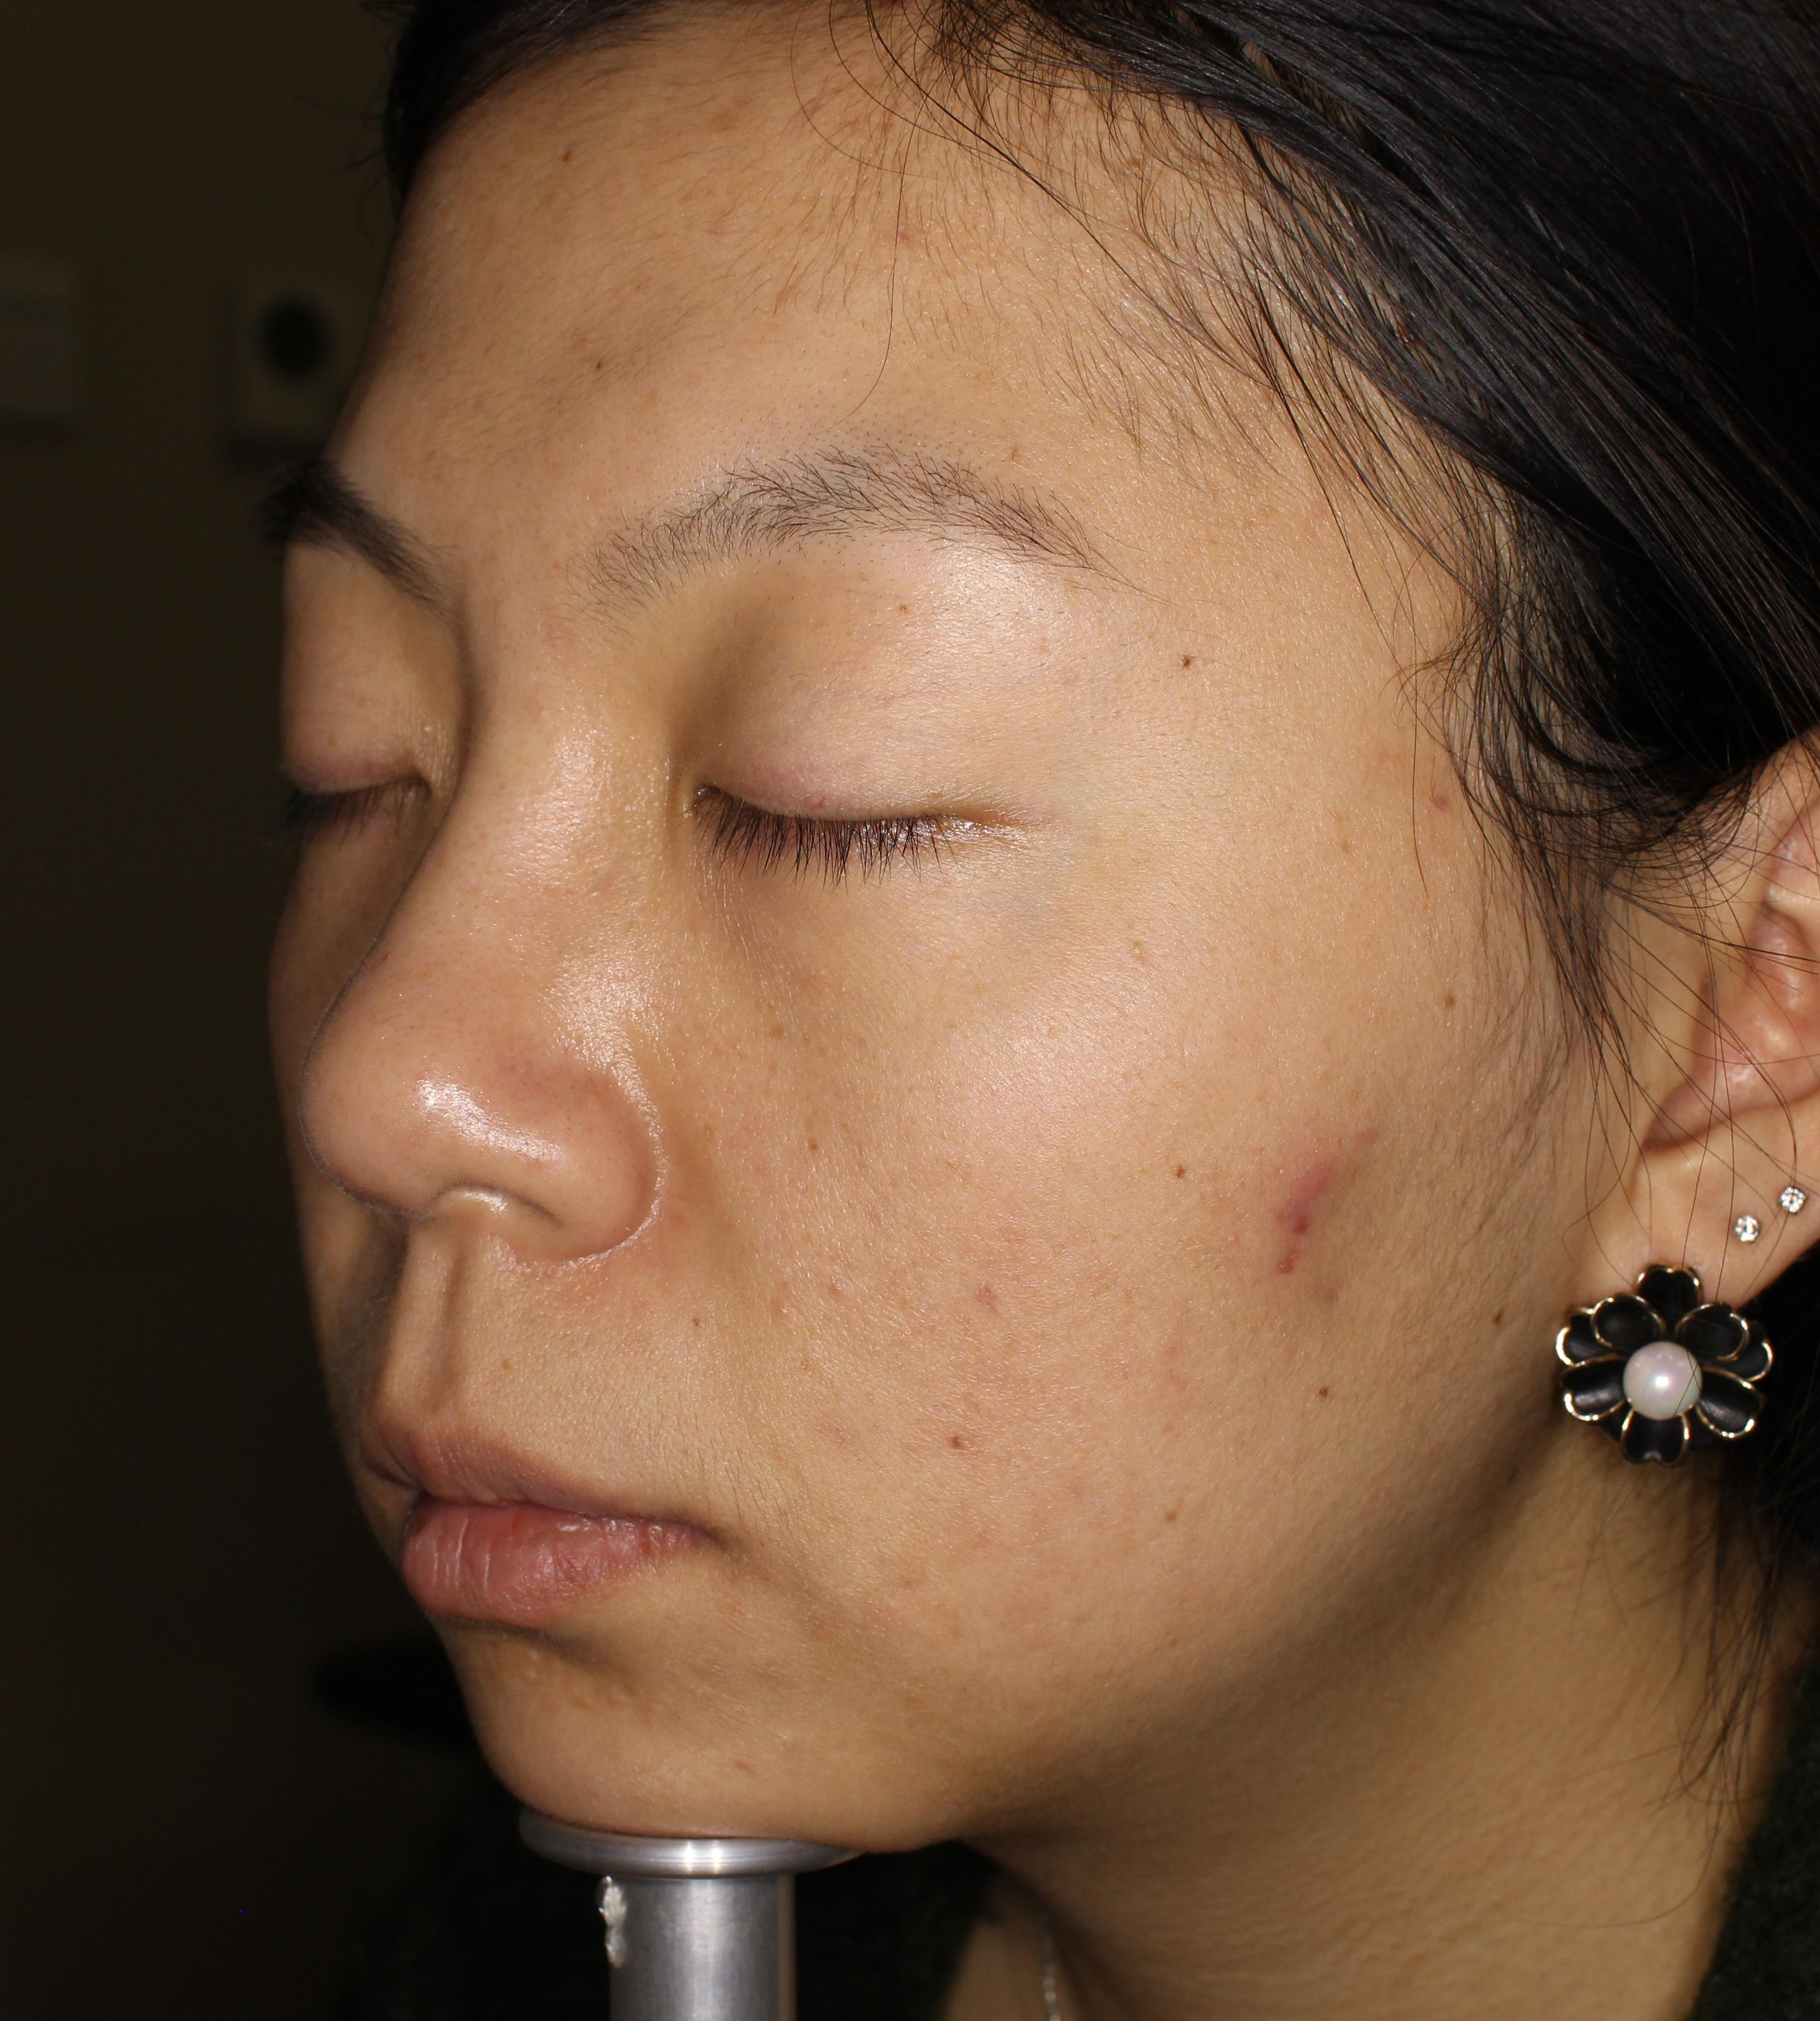fore: (1242, 1141, 1381, 1257)
